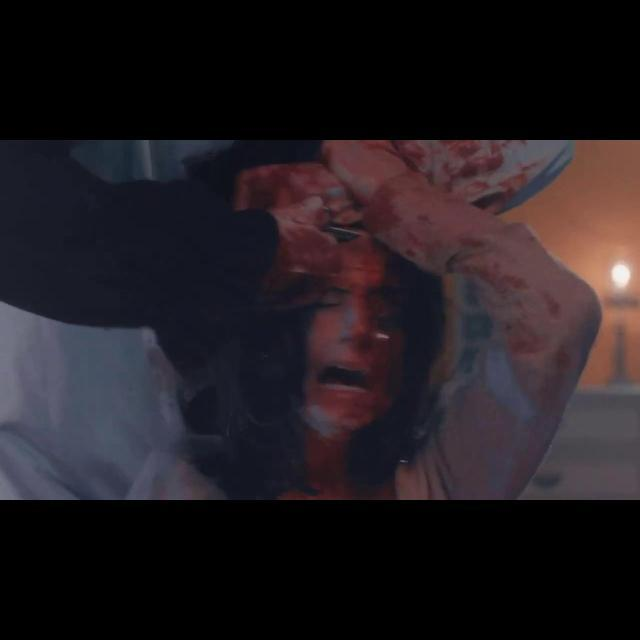blood: (207, 140, 594, 500)
